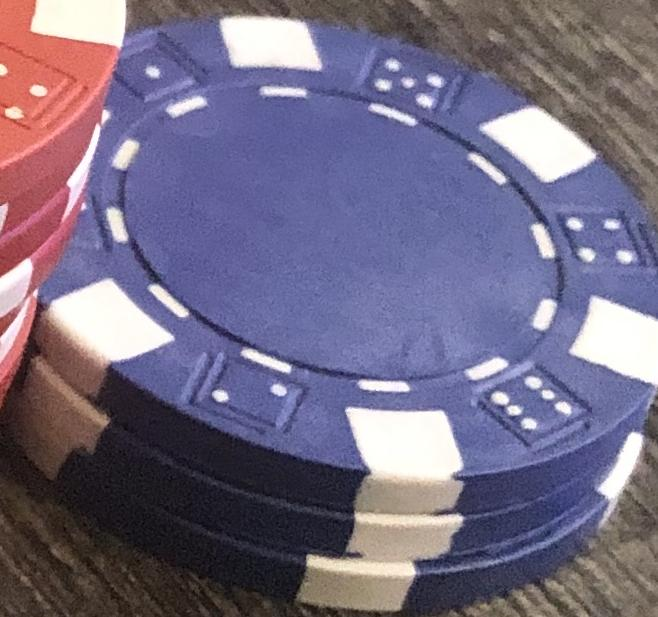Chip: (1, 1, 658, 617)
